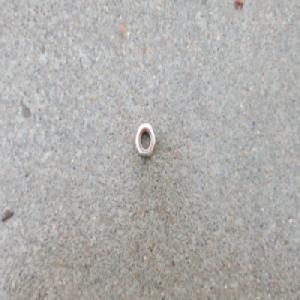Nut: (134, 120, 157, 160)
